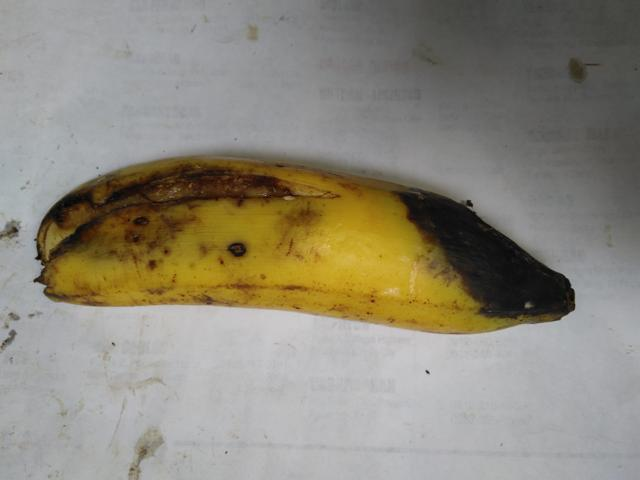rotten: (3, 119, 344, 305), (389, 150, 604, 366)
